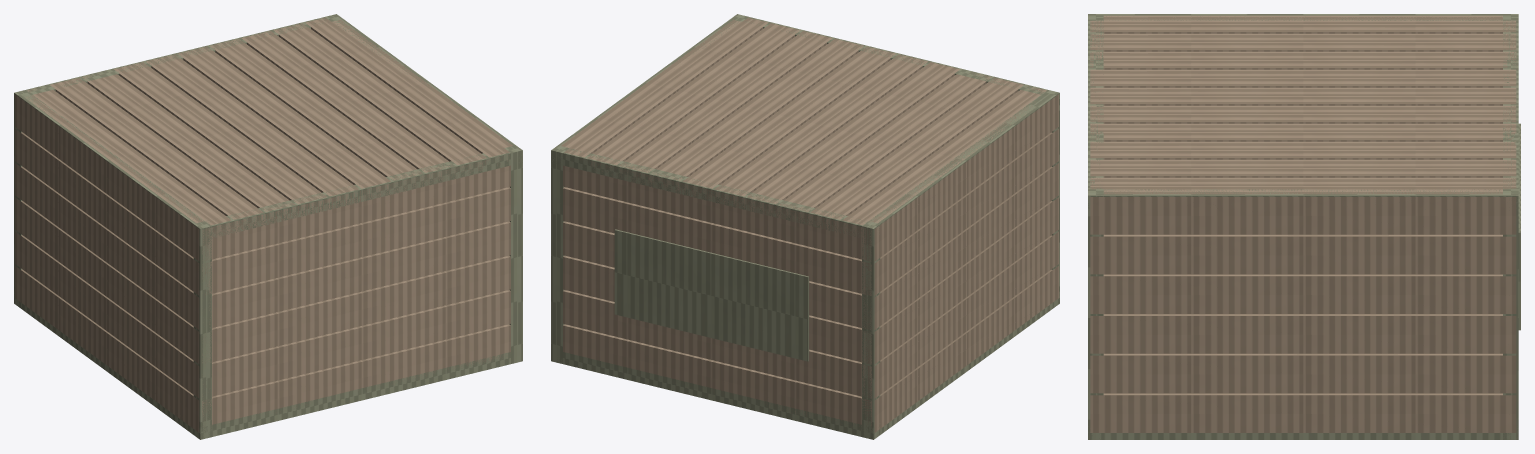
The model's file is crate-12.glb.
The picture shows the model from 3 angles, left to right: view 1: azimuth 30°, elevation 25°; view 2: azimuth 150°, elevation 25°; view 3: azimuth 270°, elevation 25°; orthographic projection. The views are drawn at different scales.
Parts seen in each view (by area): view 1: crate_12; view 2: crate_12; view 3: crate_12.
Part boxes in pixels (<box>): crate_12: <box>14,14,522,439</box>; crate_12: <box>551,14,1059,439</box>; crate_12: <box>1088,14,1520,439</box>.
Size of the model in its own units: 1.92 by 1.2 by 1.93.
2 materials, 2 textured.
